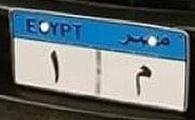1: (47, 49, 63, 85)
meem: (129, 60, 152, 101)
